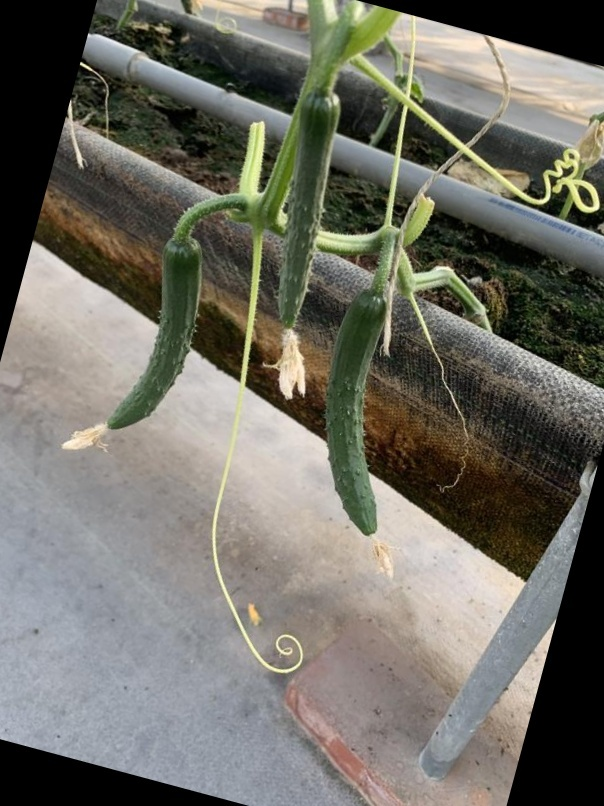growth: (93, 230, 207, 434), (268, 91, 342, 336)
mature: (322, 289, 390, 547)
